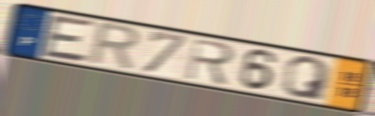6: (239, 49, 278, 92)
7: (143, 29, 189, 76)
E: (39, 13, 98, 65)
Q: (281, 55, 334, 103)
R: (85, 20, 143, 73), (183, 37, 237, 87)
